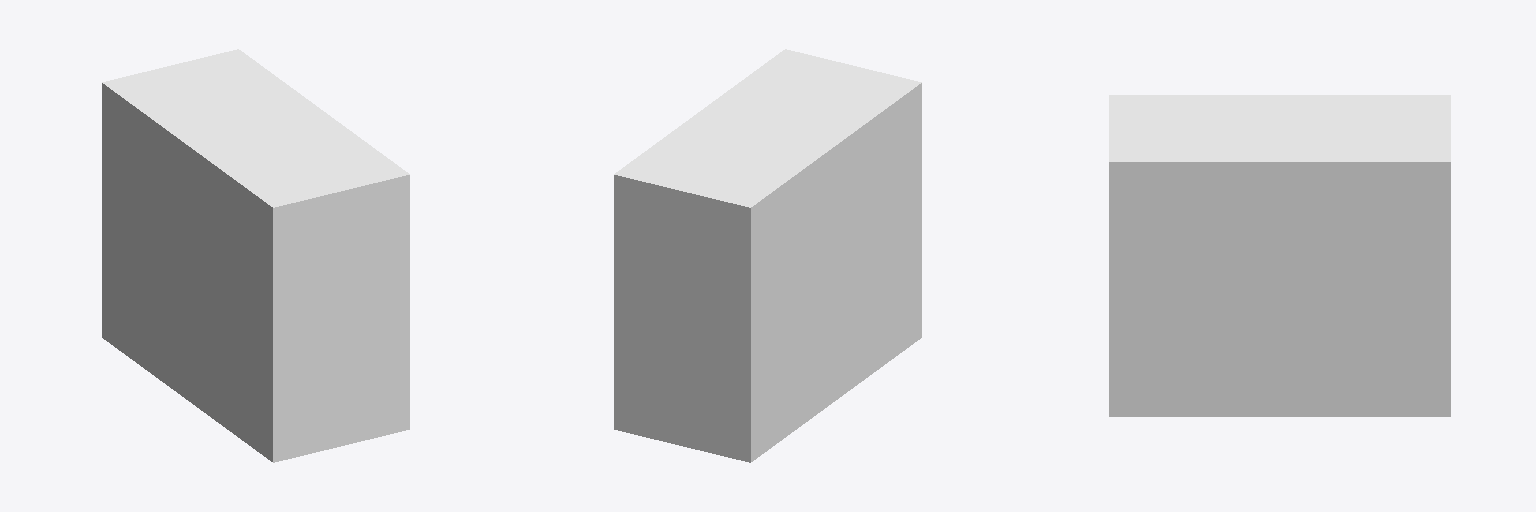
File: redbuilding.obj
3 views of the same model, side by side, from view 1: azimuth 30°, elevation 25°; view 2: azimuth 150°, elevation 25°; view 3: azimuth 270°, elevation 25° (orthographic).
Parts seen in each view (by area): view 1: object 1; view 2: object 1; view 3: object 1.
Part boxes in pixels (x1,y1,x2,y2): object 1: (102, 49, 409, 462); object 1: (614, 49, 921, 462); object 1: (1109, 95, 1450, 416).
Bounding box in the file's own units: 1.8 × 3.2 × 3.9.